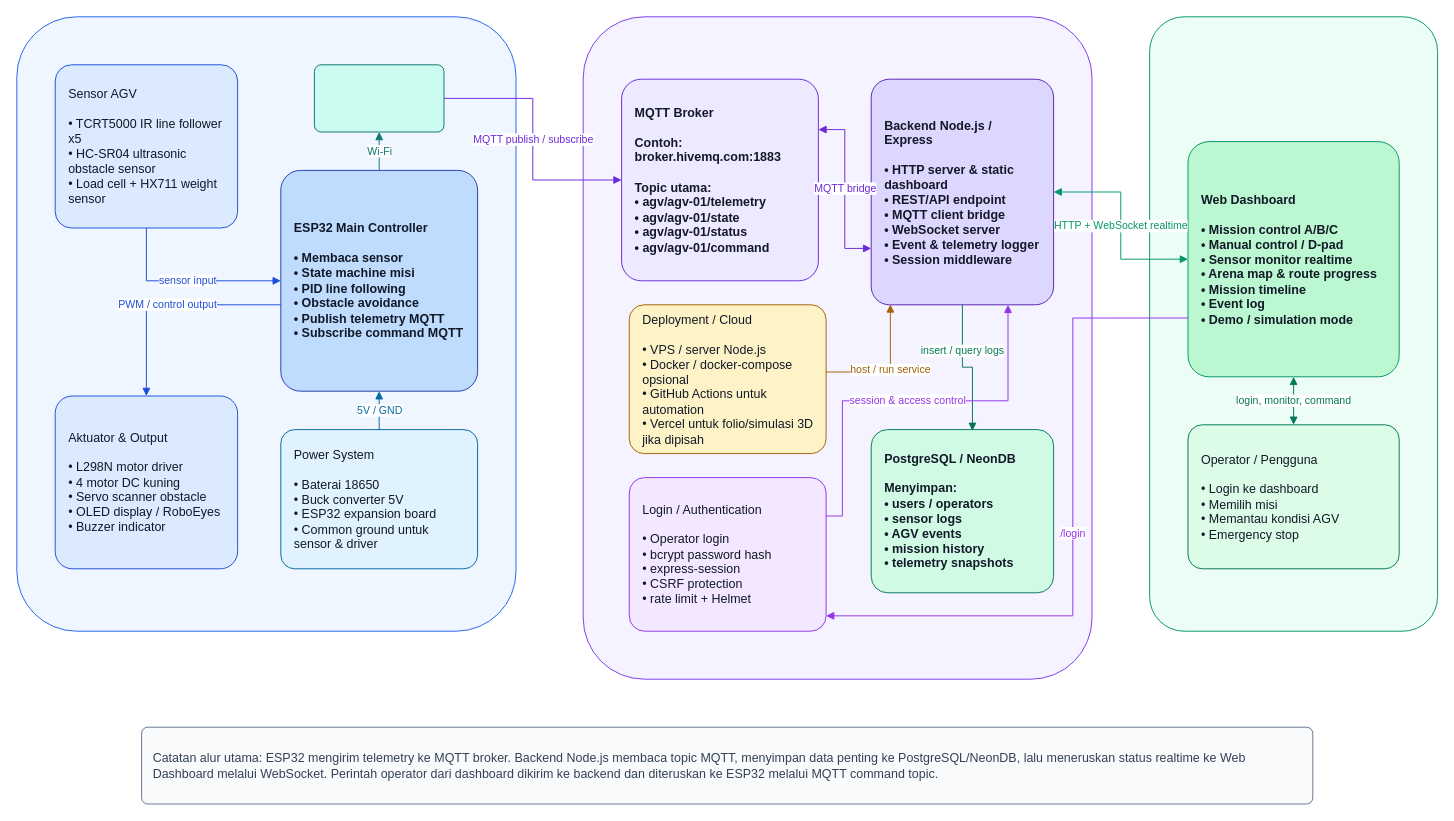
The diagram is 1454 pixels wide and 821 high, and some of its shapes have lost their labels. Here are the shapes that lost their labels. From the top down, the box of each, then its label:
(313, 64, 444, 132): Wi-Fi Network ESP32 terhubung ke internet/LAN
(16, 16, 516, 631): AGV Device / Embedded System
(1149, 16, 1438, 631): Client / Operator Layer
(582, 16, 1092, 679): Cloud / Server Layer
